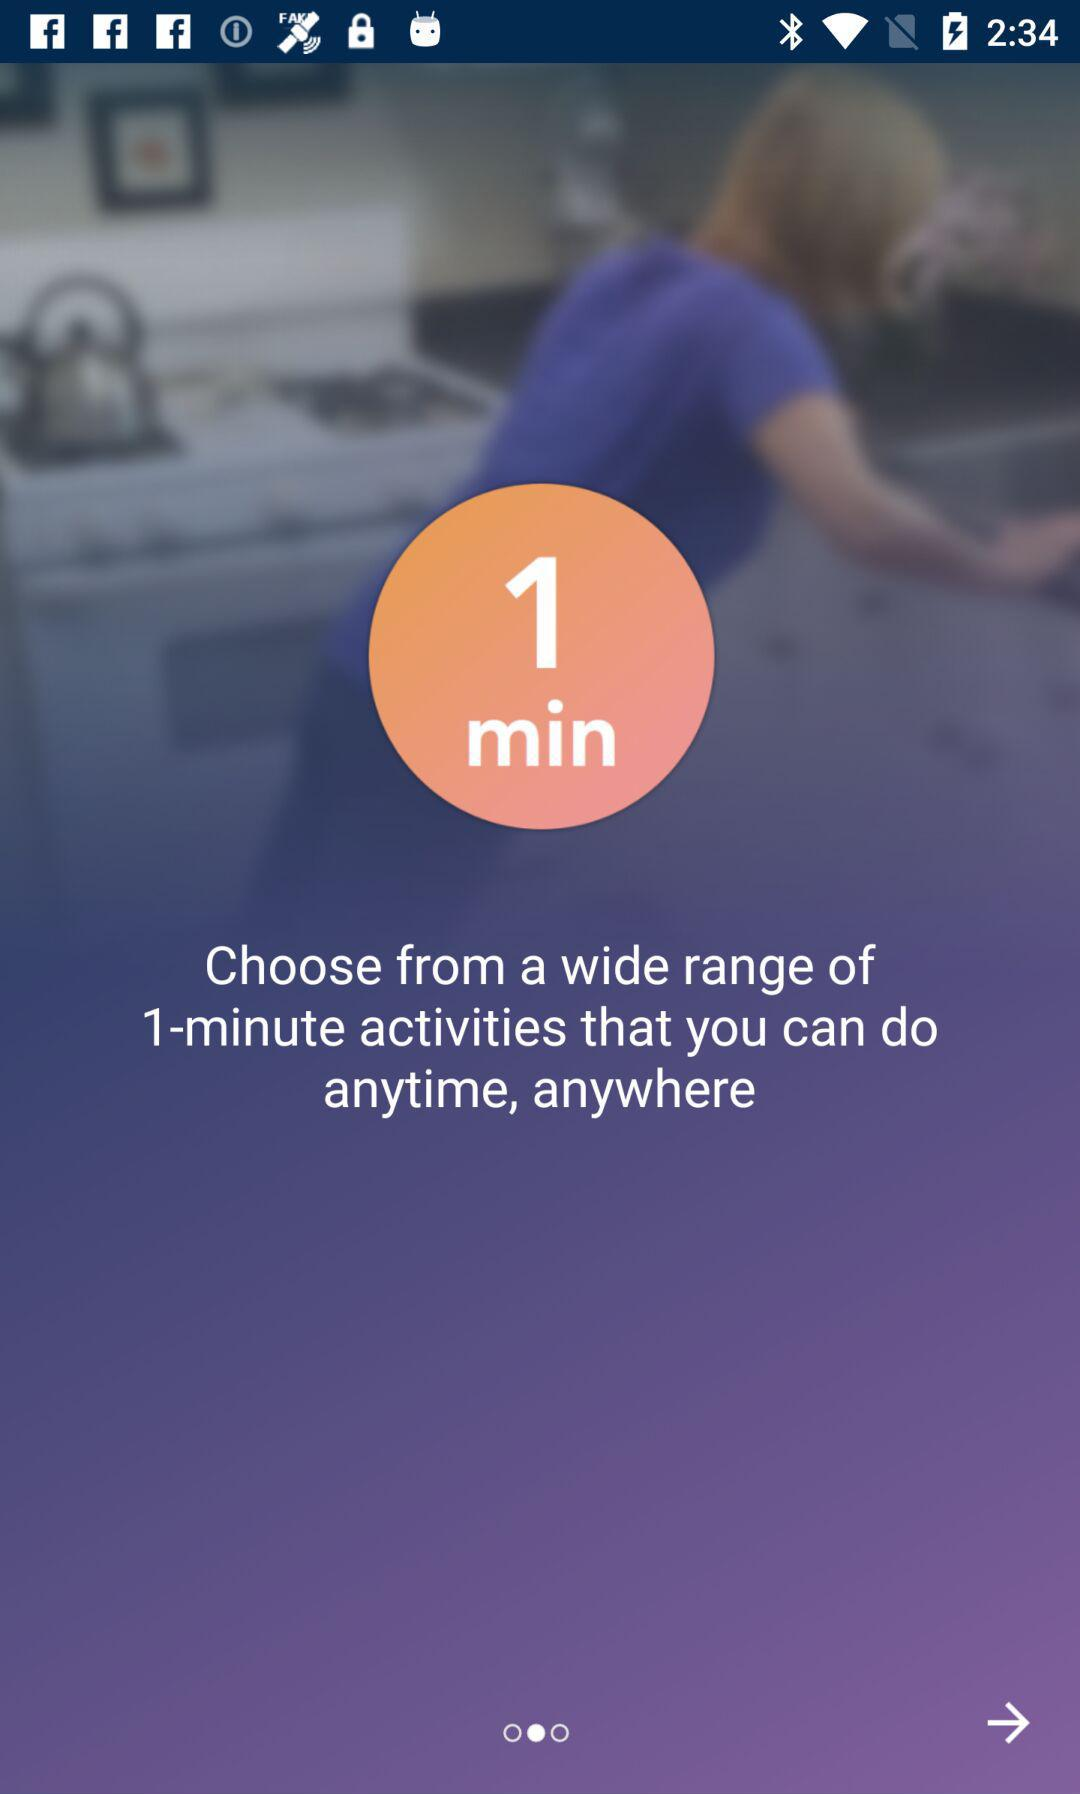BackgroundImage: (1, 64, 1080, 1794)
Icon: (986, 1700, 1031, 1745)
Image: (365, 481, 717, 832)
PageIndicator: (502, 1722, 571, 1744)
Text: (143, 943, 939, 1123)
UpperTaskBar: (1, 1, 1080, 64)
